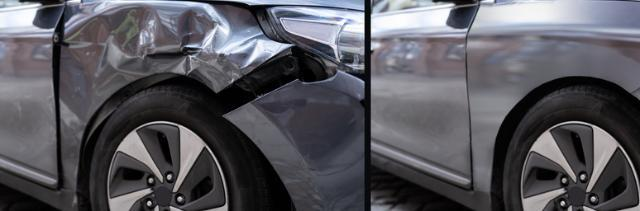Bumper: (219, 72, 377, 211)
Fender: (62, 0, 308, 131)
